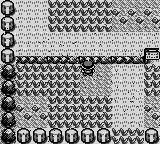captura: (17, 64, 113, 128), (48, 0, 113, 32), (144, 64, 160, 96), (112, 128, 144, 143)
leer: (144, 48, 160, 63)
main: (81, 59, 95, 76)
no-caminable: (16, 128, 112, 143), (1, 64, 16, 143), (1, 1, 16, 63), (145, 128, 160, 143)
salto: (18, 56, 143, 64)
